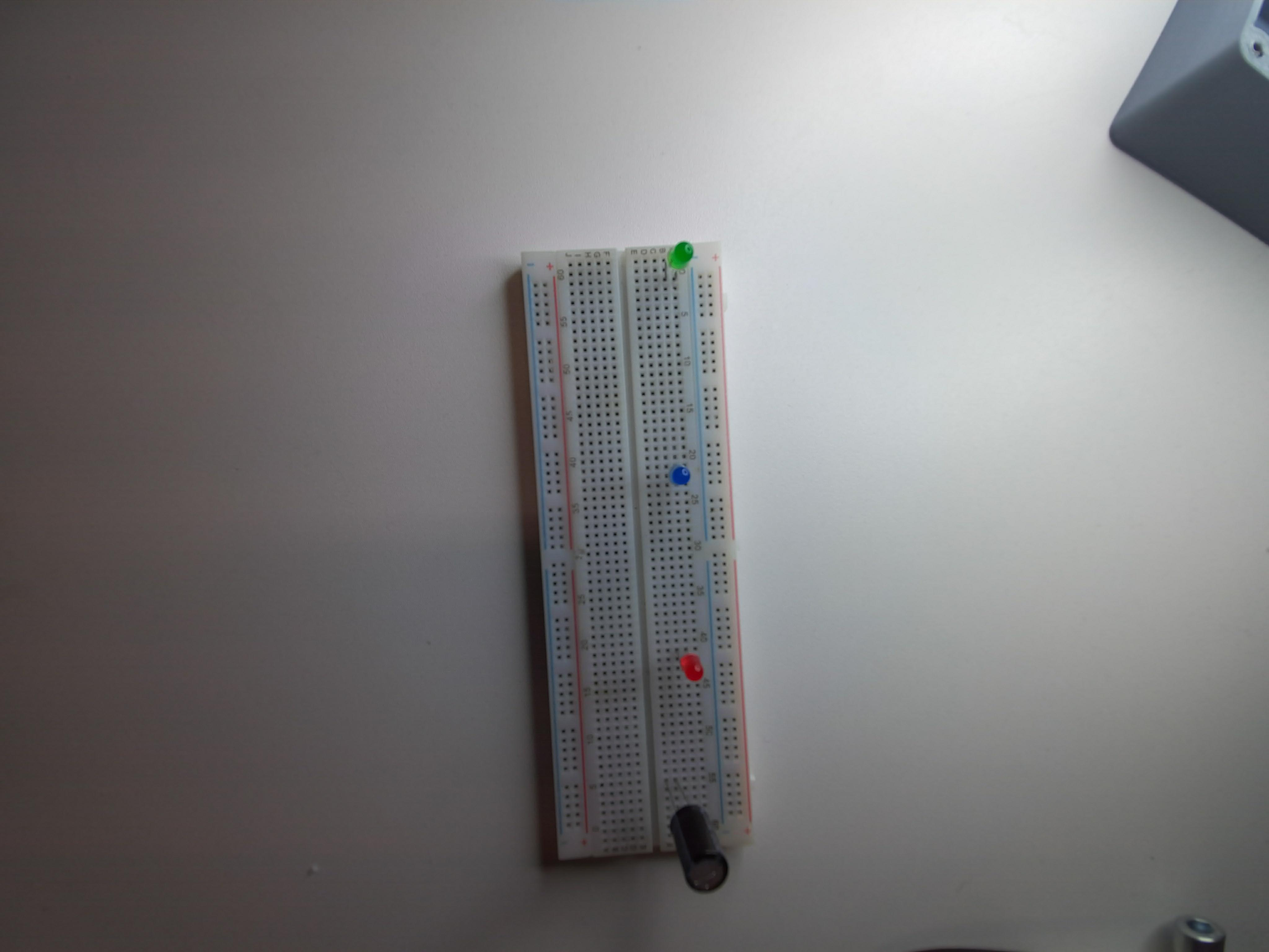base: (520, 243, 756, 865)
blue-led: (669, 457, 692, 496)
capacitor: (672, 792, 730, 896)
green-led: (661, 232, 700, 273)
red-led: (682, 648, 705, 688)
